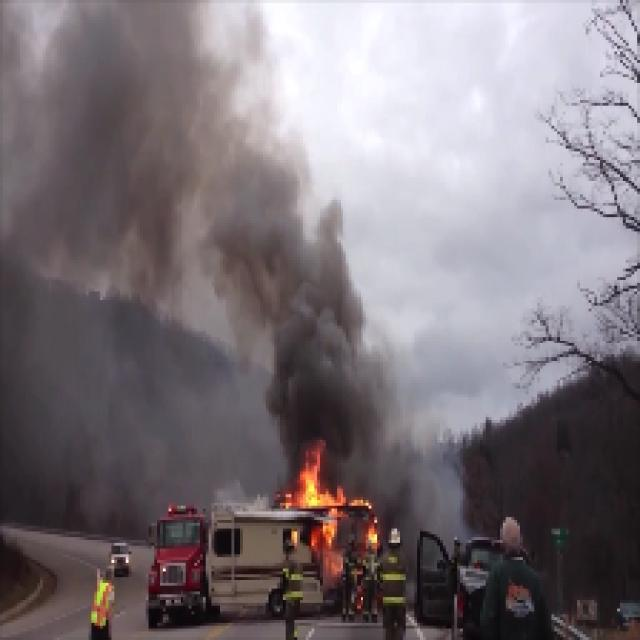fire: (284, 448, 381, 558)
smoke: (13, 4, 228, 339), (246, 136, 400, 442), (381, 449, 462, 546)
